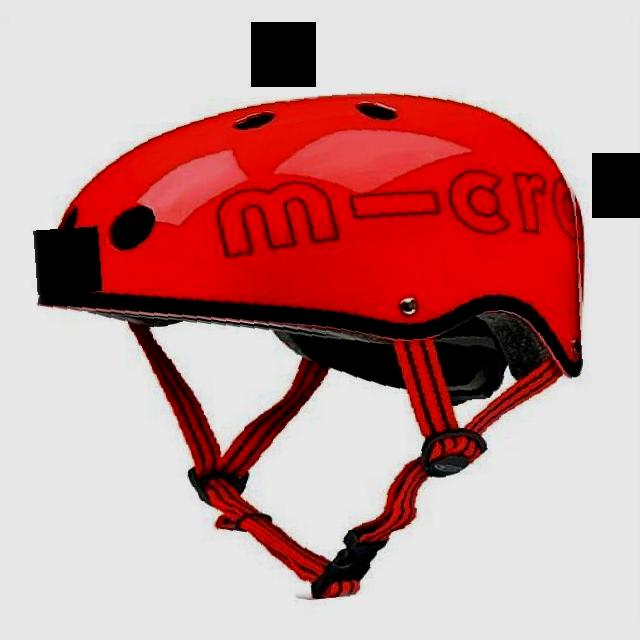helmet: (32, 86, 593, 607)
